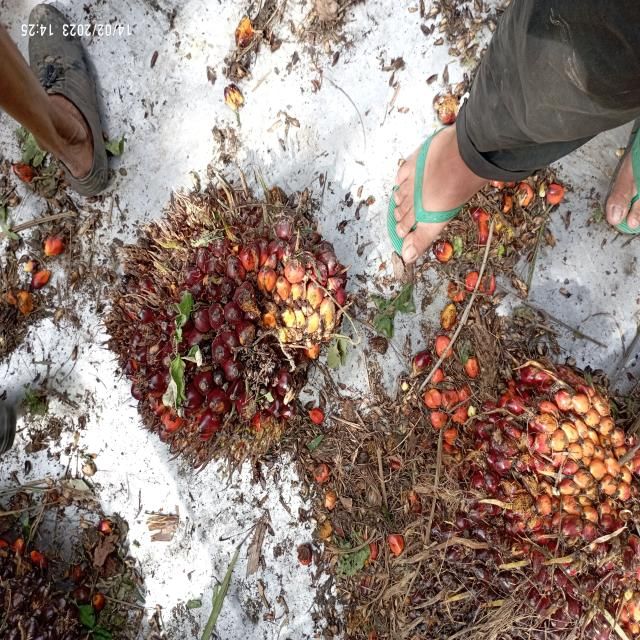fraksi 1: (67, 126, 390, 491)
fraksi 3: (422, 292, 640, 640)
